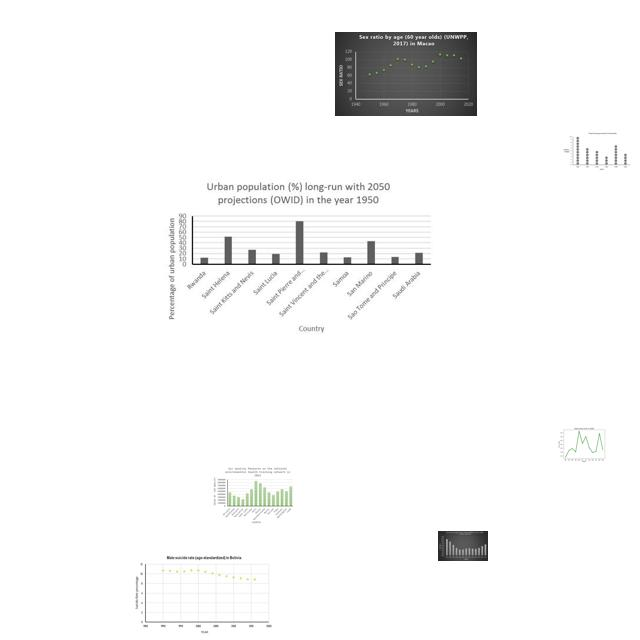Graph: (160, 179, 435, 336), (335, 32, 477, 116), (135, 554, 275, 635), (212, 466, 296, 524), (561, 131, 632, 172), (557, 424, 610, 464), (438, 531, 488, 561)
